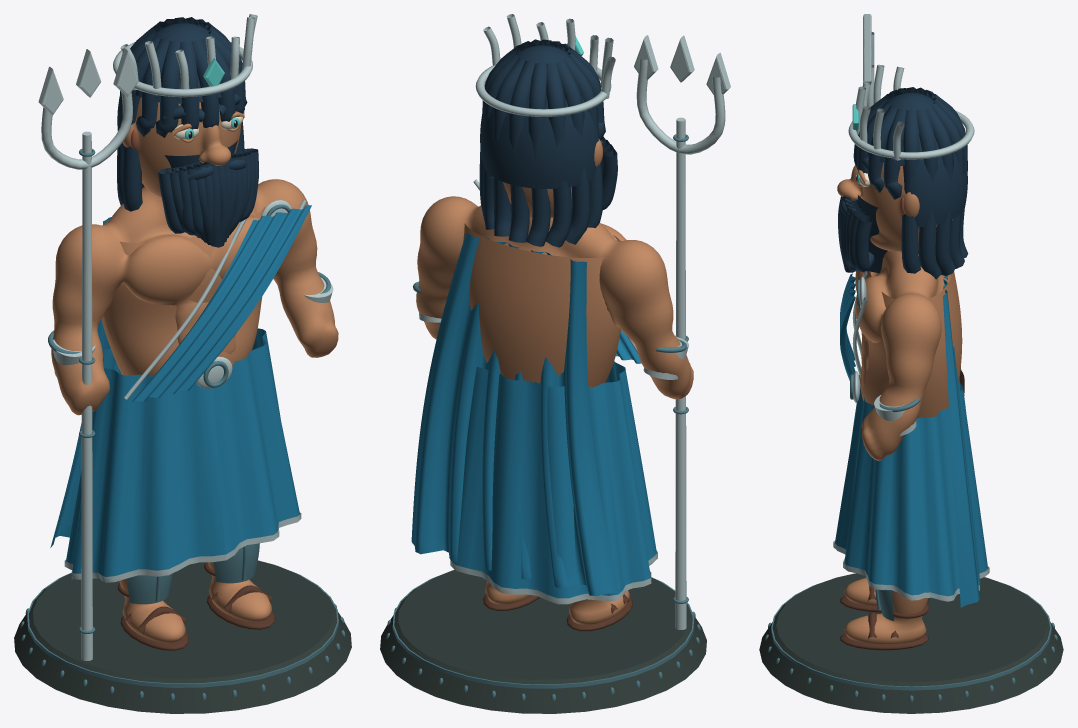
File: poseidon-47ce22aa00b7.glb
3 renders of one model, left to right at view 1: azimuth 30°, elevation 25°; view 2: azimuth 150°, elevation 25°; view 3: azimuth 270°, elevation 25°, orthographic. The views are drawn at different scales.
Parts seen in each view (by area): view 1: Body Signature cloth, Body Skin, Body Basalt, Head Hair, Body Metal, Body Engraved metal, Head Skin, Head Metal, Body Leather, Cape Signature cloth; view 2: Body Skin, Body Basalt, Body Signature cloth, Cape Signature cloth, Head Hair, Body Metal, Head Metal, Body Engraved metal, Body Leather, Head Skin; view 3: Body Basalt, Body Signature cloth, Body Skin, Head Hair, Cape Signature cloth, Body Metal, Head Metal, Body Engraved metal, Head Skin, Body Leather.
Part boxes in pixels (box(x1,y1,x2,y2)): Body Signature cloth: box(66, 205, 311, 582); Body Skin: box(51, 179, 338, 642); Body Basalt: box(14, 560, 351, 713); Head Hair: box(117, 17, 258, 247); Body Metal: box(38, 48, 333, 660); Body Engraved metal: box(20, 149, 345, 700); Head Skin: box(122, 97, 244, 197); Head Metal: box(113, 14, 257, 97); Body Leather: box(115, 361, 275, 650); Cape Signature cloth: box(50, 217, 121, 547); Body Skin: box(416, 196, 693, 624); Body Basalt: box(380, 570, 706, 713); Body Signature cloth: box(453, 329, 656, 598); Cape Signature cloth: box(411, 233, 618, 595); Head Hair: box(479, 39, 617, 247); Body Metal: box(418, 35, 730, 629); Head Metal: box(475, 14, 615, 116); Body Engraved metal: box(386, 134, 700, 700); Body Leather: box(483, 594, 632, 631); Head Skin: box(493, 139, 602, 217); Body Basalt: box(759, 573, 1063, 713); Body Signature cloth: box(835, 273, 987, 601); Body Skin: box(844, 251, 962, 643); Head Hair: box(838, 87, 968, 279); Cape Signature cloth: box(943, 275, 980, 607); Body Metal: box(833, 14, 989, 601); Head Metal: box(848, 64, 974, 160); Body Engraved metal: box(765, 279, 1057, 701); Head Skin: box(837, 162, 952, 251); Body Leather: box(840, 370, 964, 650).
Size of the model in its own units: 1.93 by 3.75 by 1.8.
